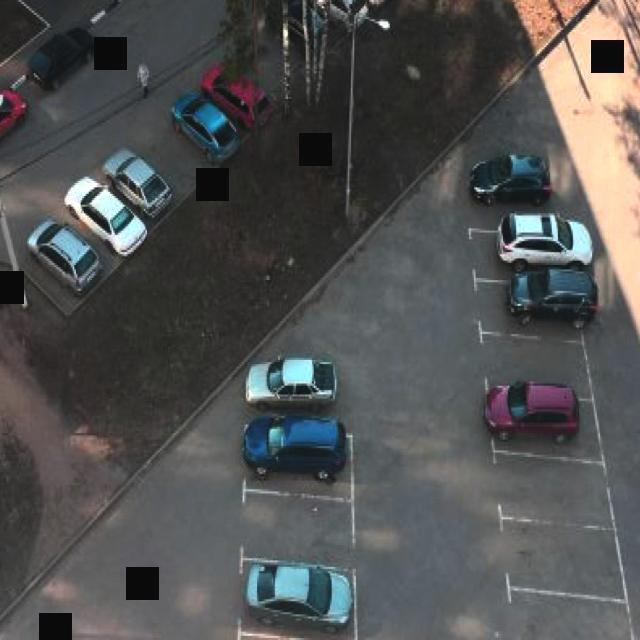space-empty: (238, 498, 354, 556), (512, 527, 616, 589), (510, 461, 604, 517), (519, 593, 624, 640), (492, 338, 588, 388), (135, 119, 198, 190), (241, 26, 299, 95)
space-occupied: (17, 216, 107, 307), (237, 566, 355, 628), (68, 182, 144, 264), (247, 432, 354, 490), (196, 53, 269, 131), (97, 139, 168, 219), (483, 282, 582, 336), (171, 87, 236, 169), (498, 395, 592, 451), (263, 0, 345, 62), (476, 222, 575, 272), (295, 0, 370, 39)
